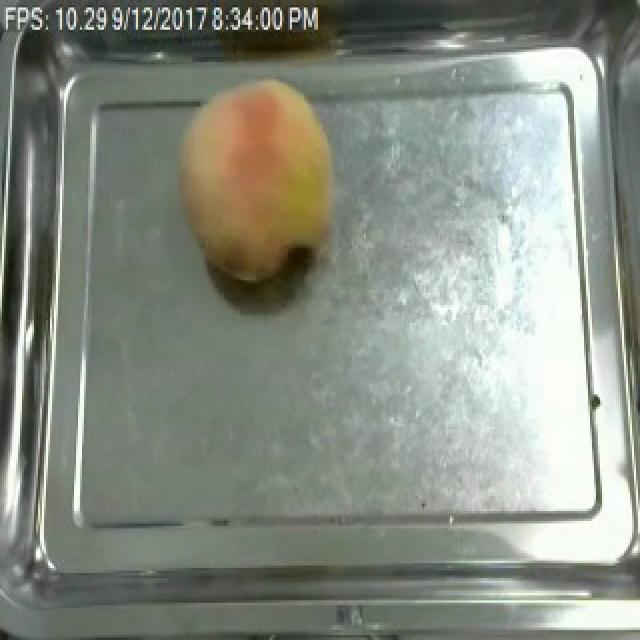Fruit: (170, 67, 348, 288)
